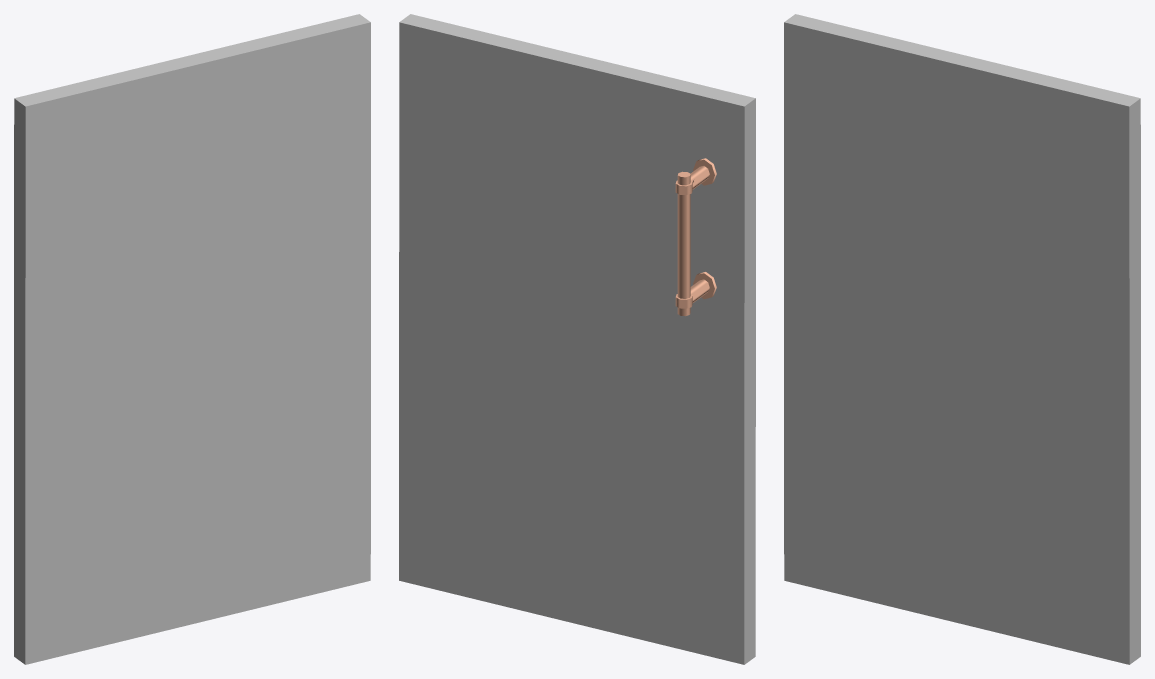
The model's file is Cabinet_7a464962.obj.
The picture shows the model from 3 angles, left to right: view 1: azimuth 30°, elevation 25°; view 2: azimuth 150°, elevation 25°; view 3: azimuth 330°, elevation 25°; orthographic projection.
Parts seen in each view (by area): view 1: FP403:Door1_01_0e6bc5fc; view 2: FP403:Door1_01_0e6bc5fc; view 3: FP403:Door1_01_0e6bc5fc.
Part boxes in pixels (x1,y1,x2,y2): FP403:Door1_01_0e6bc5fc: (14, 14, 370, 664); FP403:Door1_01_0e6bc5fc: (399, 14, 755, 664); FP403:Door1_01_0e6bc5fc: (784, 14, 1140, 664).
Bounding box in the file's own units: 0.5073 × 0.7838 × 0.0954.
